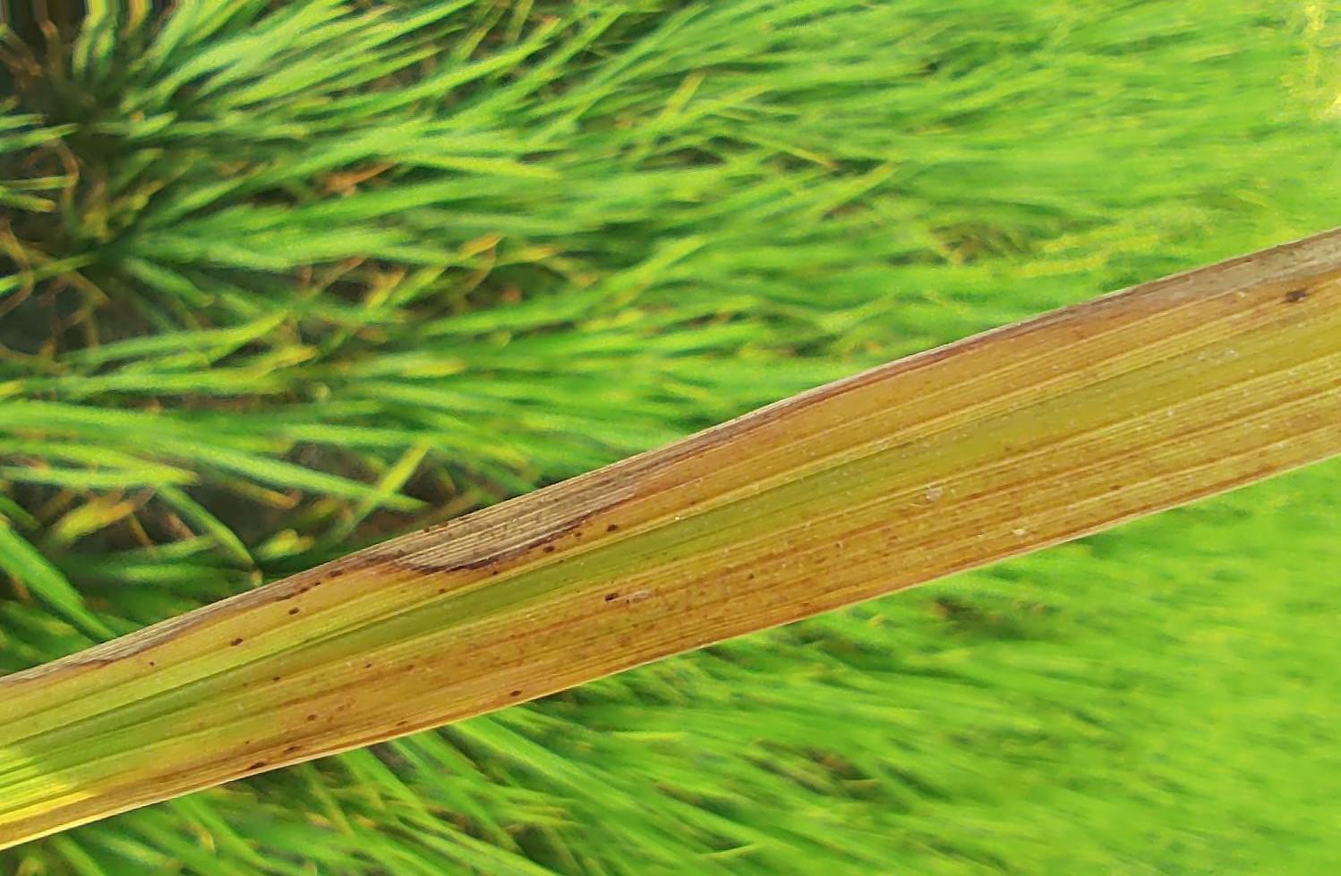LEAF: (0, 228, 1340, 848)
LEAF BLAST: (2, 313, 1058, 682)
